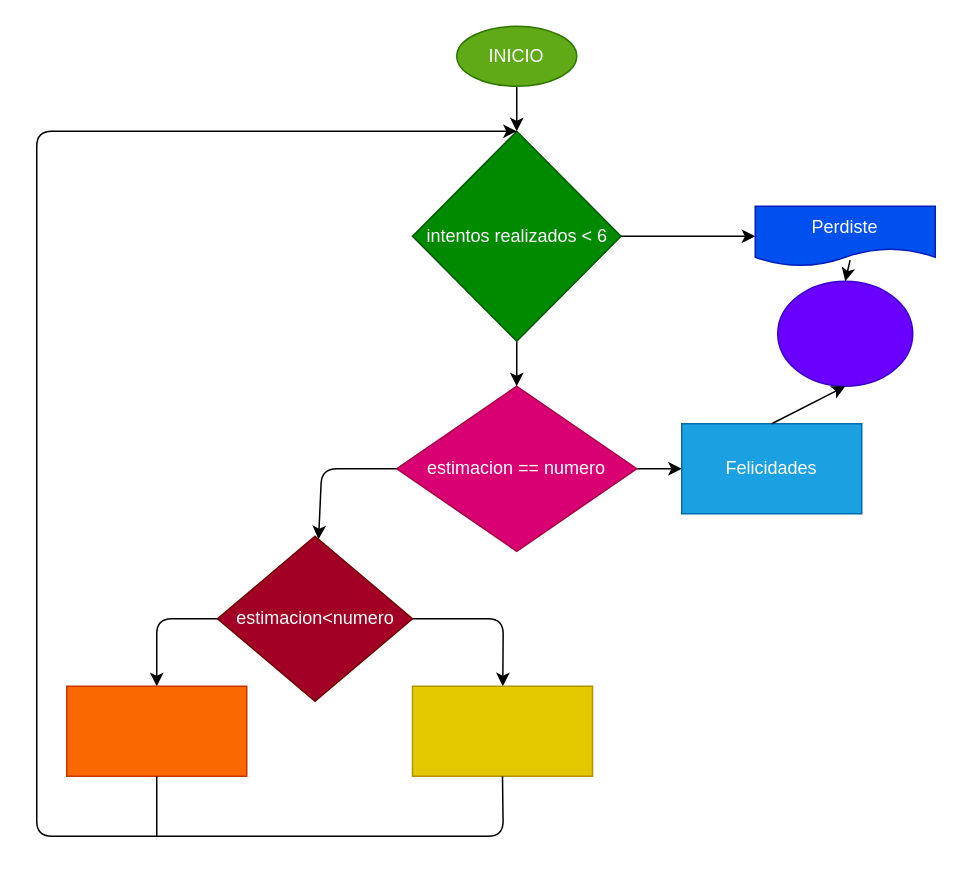
Some shapes in this 962 by 875 pixel diagram are drawn without their labels. The shapes that lost their labels are listed below. From the top down, each one's centre as x and y in pixels, then its label:
At point (844, 333): "FIN".
At point (156, 730): "muy cerca".
At point (501, 730): "Muy lejos".
